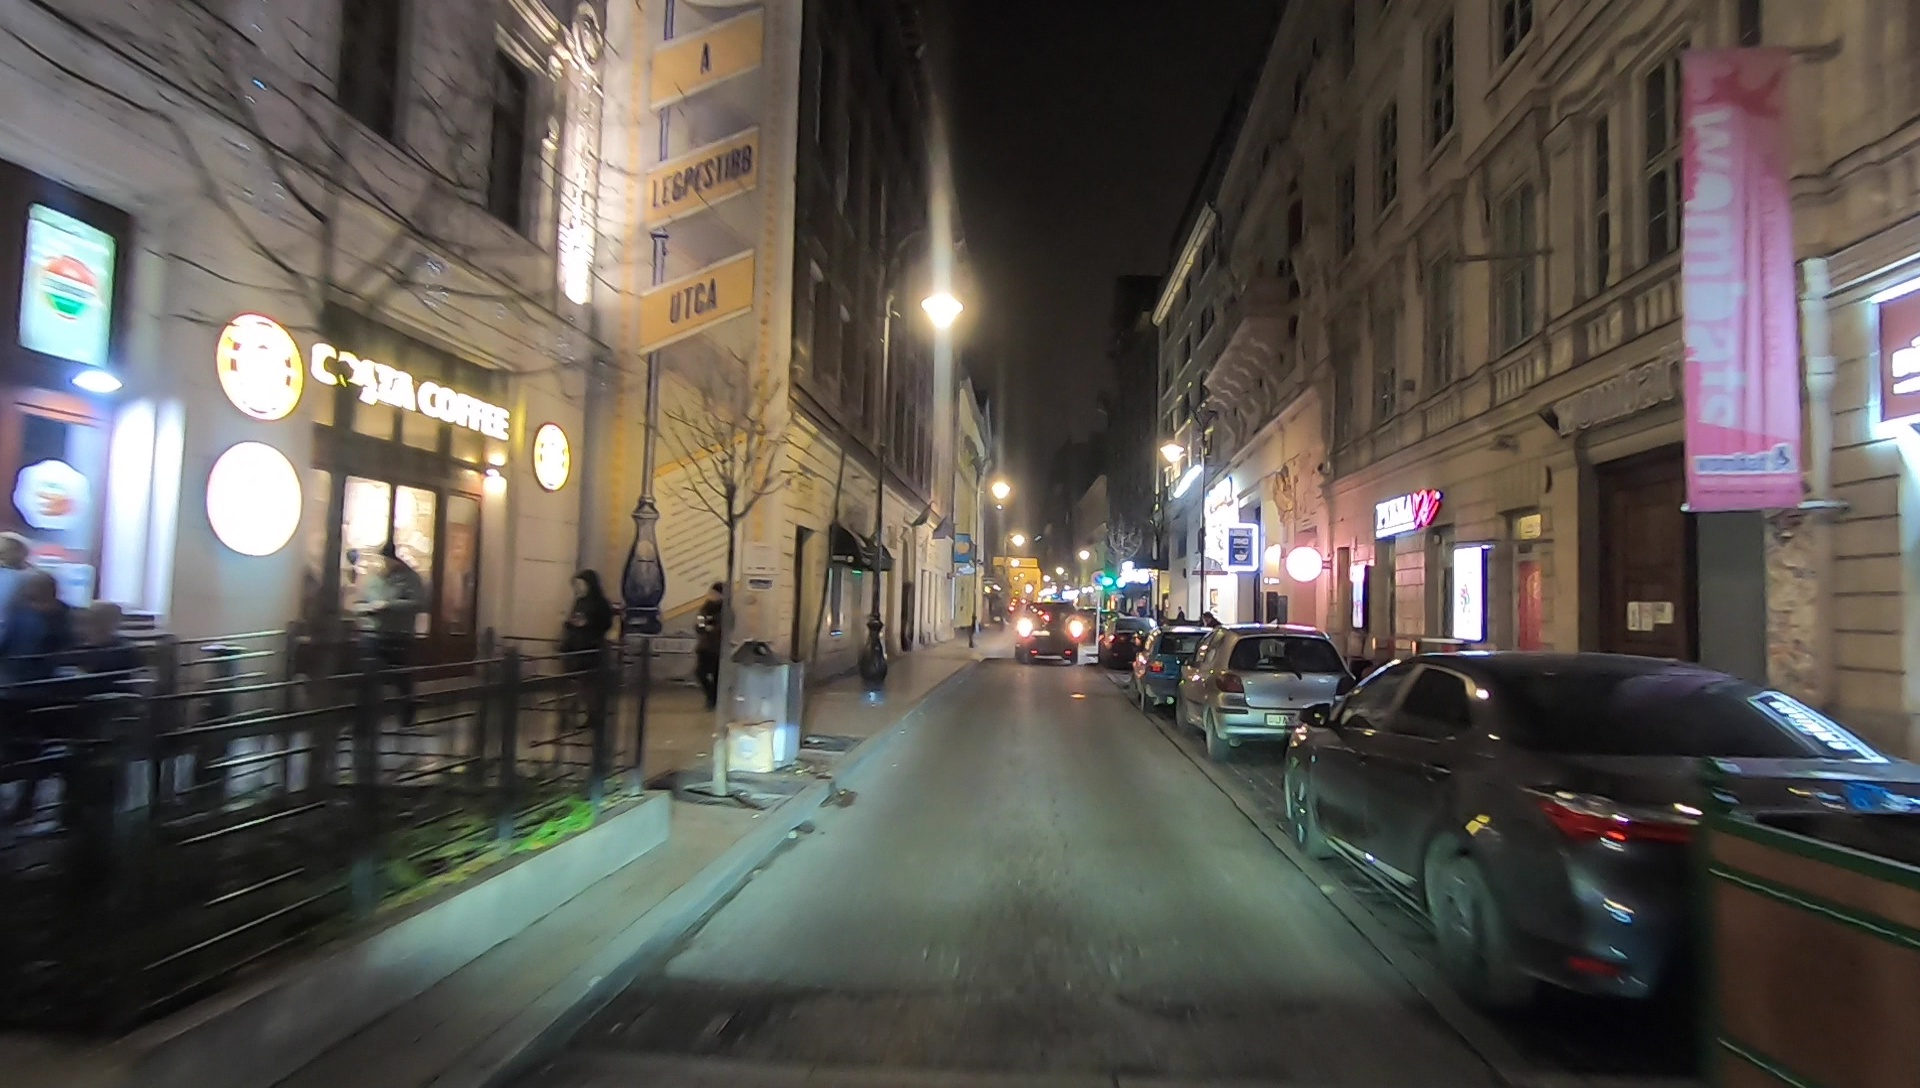person: (362, 550, 425, 680), (564, 573, 615, 721), (699, 580, 730, 702)
